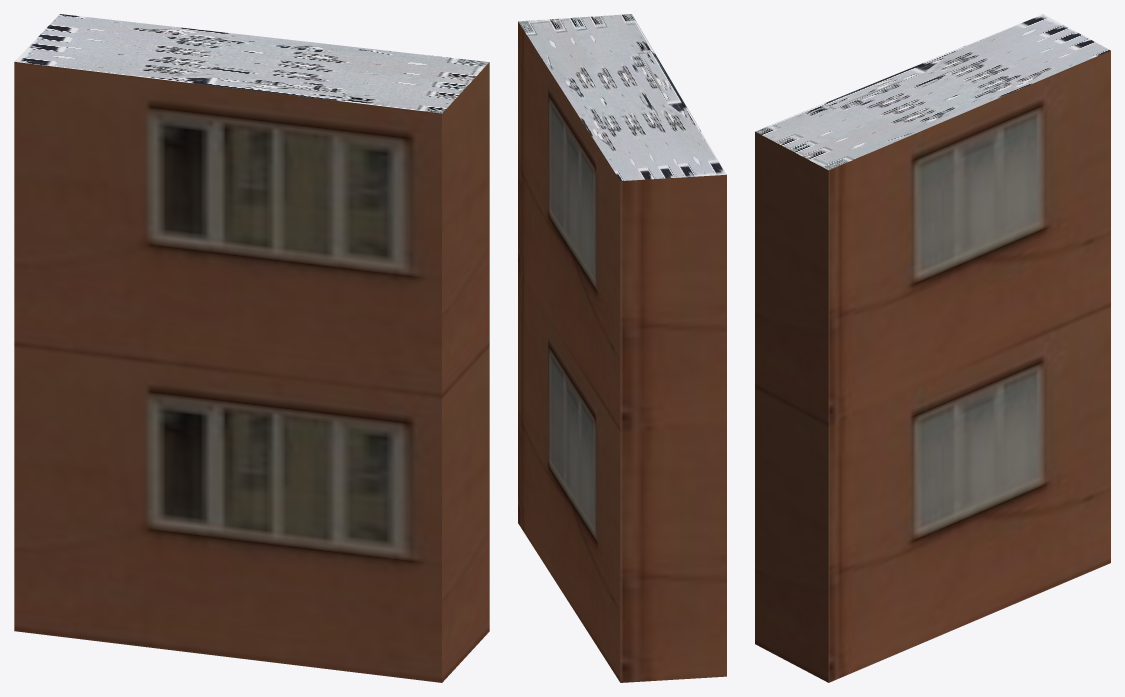
Rendered from ResTex__4279.fbx.
The picture shows the model from 3 angles, left to right: view 1: azimuth 30°, elevation 25°; view 2: azimuth 150°, elevation 25°; view 3: azimuth 270°, elevation 25°; orthographic projection. The views are drawn at different scales.
Visible parts, largest first — view 1: CityEngineMaterial_20_m, CityEngineMaterial_4_m; view 2: CityEngineMaterial_20_m, CityEngineMaterial_4_m; view 3: CityEngineMaterial_20_m, CityEngineMaterial_4_m.
Boxes of the visible parts, x1,y1,x2,y2 form: CityEngineMaterial_20_m: [14, 62, 489, 682]; CityEngineMaterial_4_m: [14, 14, 489, 113]; CityEngineMaterial_20_m: [518, 21, 726, 682]; CityEngineMaterial_4_m: [518, 14, 726, 180]; CityEngineMaterial_20_m: [755, 50, 1110, 682]; CityEngineMaterial_4_m: [755, 14, 1110, 170].
Bounding box in the file's own units: 3.93 × 6 × 3.77.
2 materials, 2 textured.
